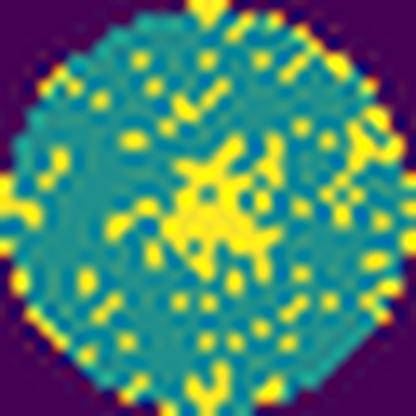Center: (100, 126, 294, 282)
